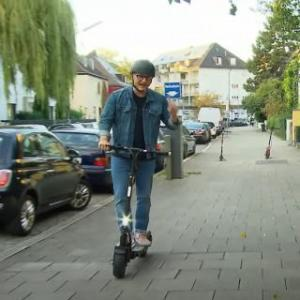with scooter: (98, 59, 178, 280)
